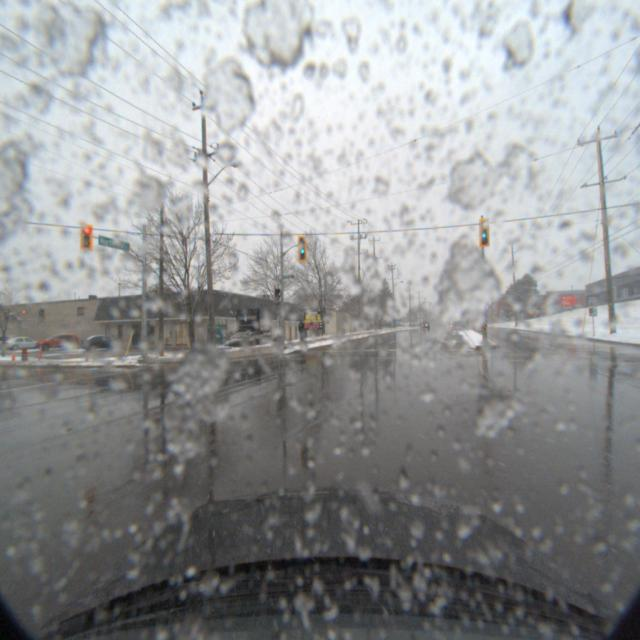Car: (29, 332, 80, 352), (74, 333, 124, 353)
